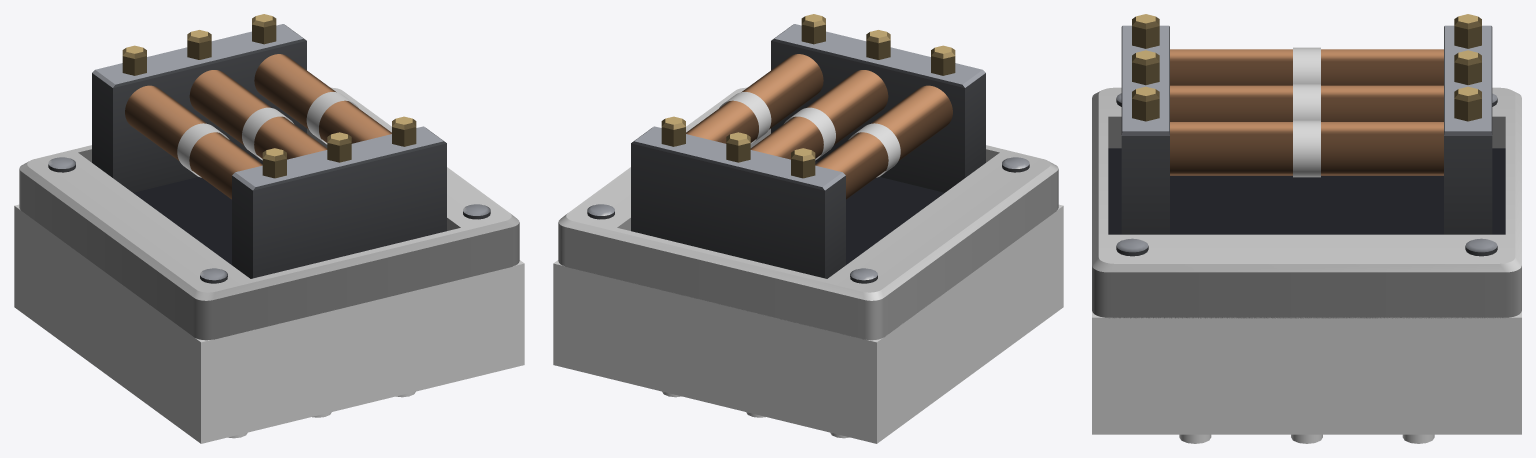
The model's file is part_parallel_circuit.glb.
3 views of the same model, side by side, from view 1: azimuth 30°, elevation 25°; view 2: azimuth 150°, elevation 25°; view 3: azimuth 270°, elevation 25° (orthographic). The views are drawn at different scales.
Parts seen in each view (by area): view 1: Korpus, Gehaeuse, Plattform, Licht; view 2: Korpus, Gehaeuse, Plattform, Licht; view 3: Korpus, Gehaeuse, Plattform, Licht, Stecker.
Part boxes in pixels (x1,y1,x2,y2): Korpus: [48, 14, 490, 283]; Gehaeuse: [14, 204, 524, 443]; Plattform: [19, 87, 519, 340]; Licht: [177, 92, 358, 177]; Korpus: [587, 14, 1029, 283]; Gehaeuse: [553, 204, 1063, 443]; Plattform: [558, 87, 1058, 340]; Licht: [719, 92, 900, 177]; Korpus: [1108, 14, 1505, 256]; Gehaeuse: [1092, 311, 1521, 434]; Plattform: [1092, 87, 1521, 318]; Licht: [1293, 47, 1320, 177]; Stecker: [1179, 434, 1434, 443].
Size of the model in its own units: 0.8 by 0.688 by 0.8.
